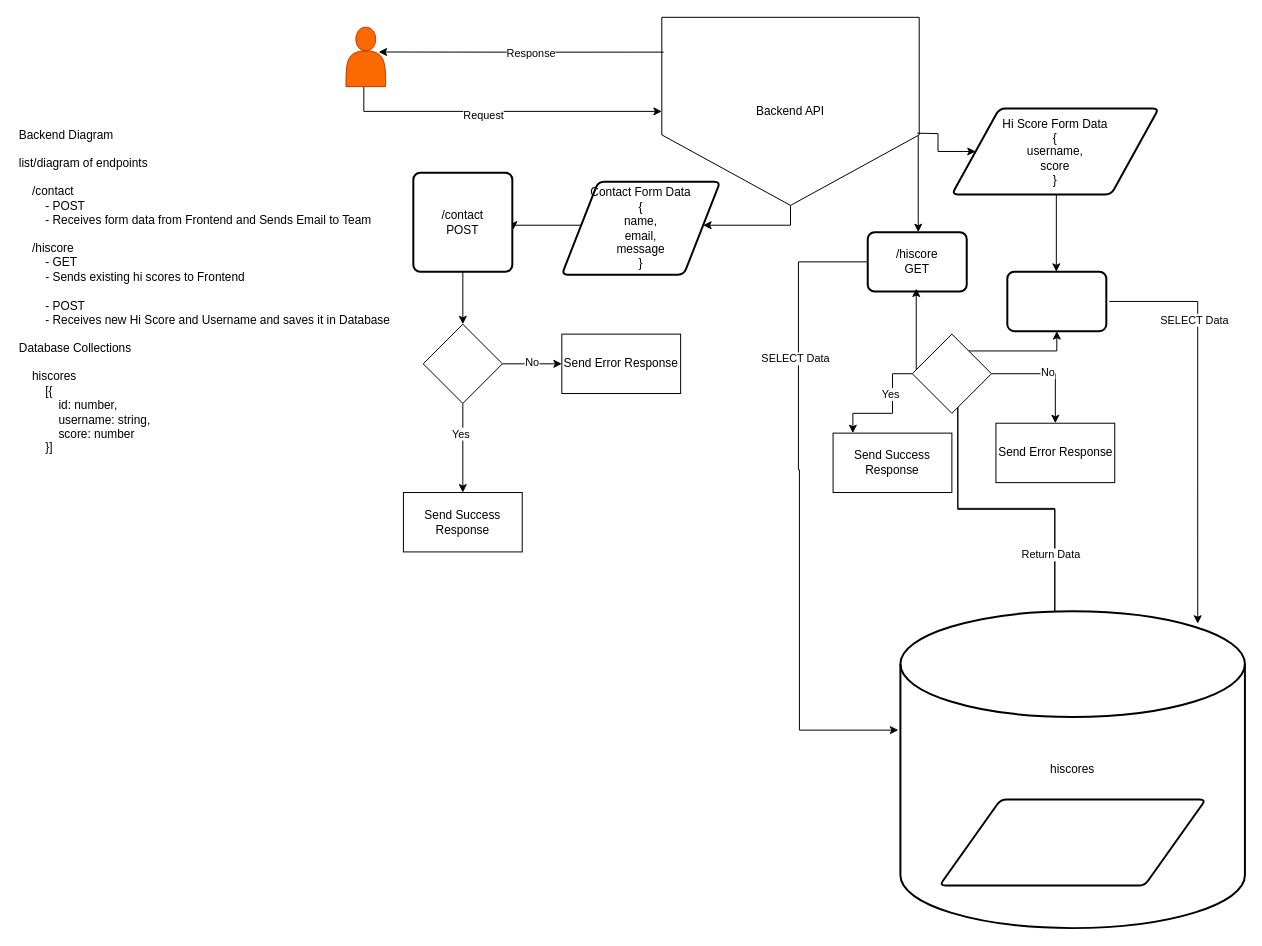
Some shapes in this 1262 by 946 pixel diagram are drawn without their labels. Here are the shapes that lost their labels. From the top down, the centre of each, then its label:
At pixel 365 56: "APP".
At pixel 1056 301: "/hiscore POST".
At pixel 462 363: "Email Successful?".
At pixel 951 373: "Query Successful?".
At pixel 1072 842: "Hi Score Collection Schema [{ username, score }]".
